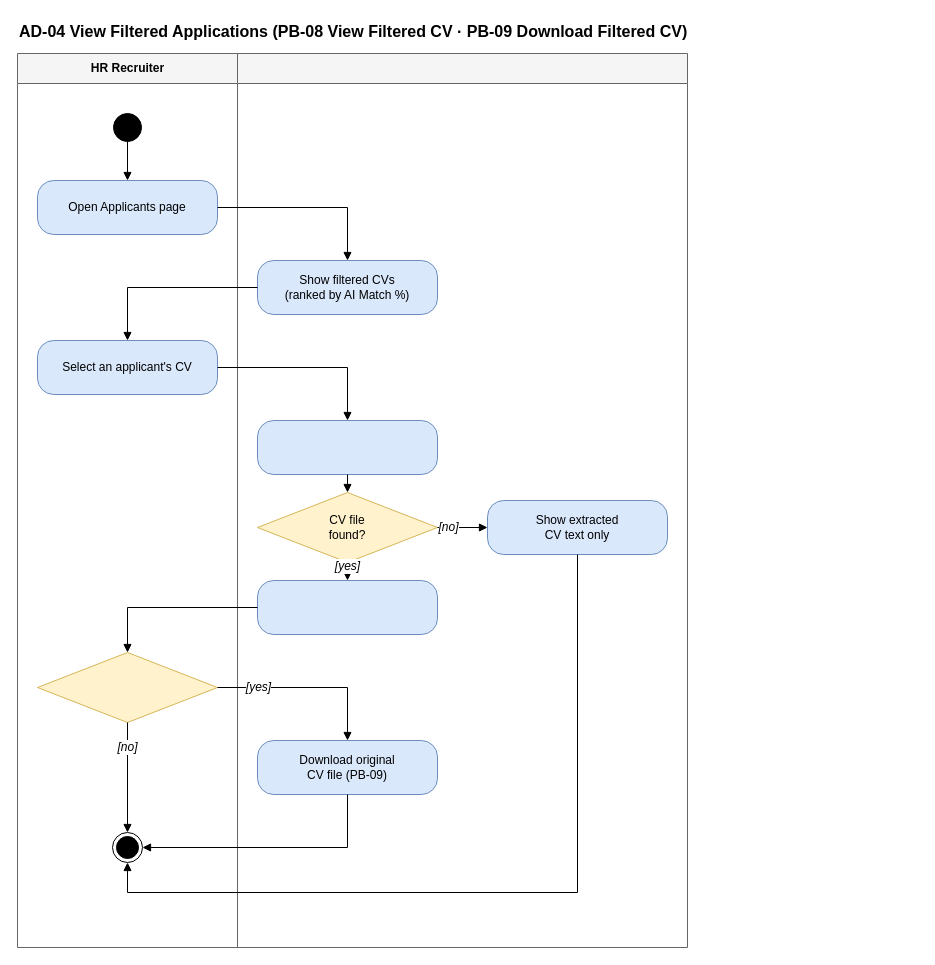
The diagram is 935 pixels wide and 965 high, and some of its shapes have lost their labels. Each missing label, with the box of its shape:
Display CV preview (PB-08): (256, 580, 438, 634)
Download CV?: (36, 652, 218, 722)
HireLine System: (236, 52, 688, 948)
Load CV file from browser storage: (256, 420, 438, 474)
